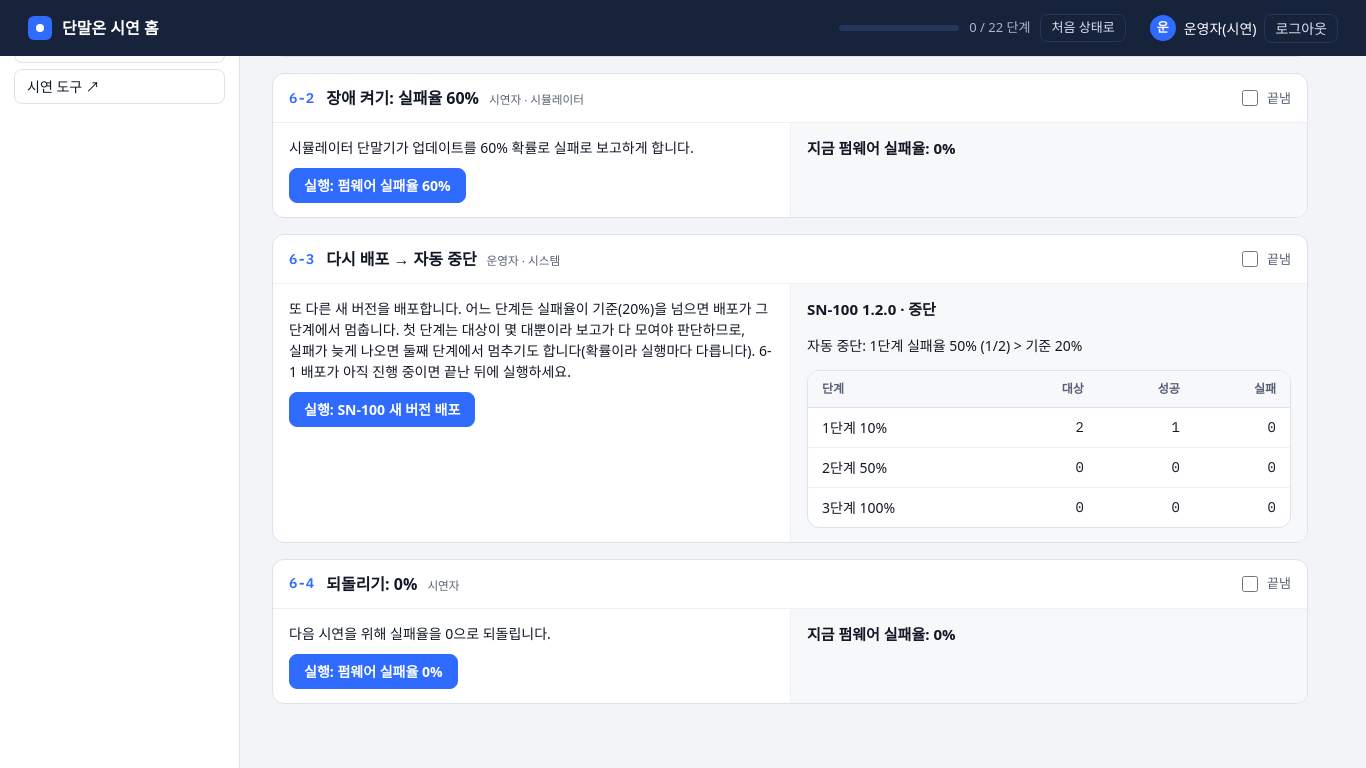
Test case: 막 6 펌웨어 배포와 자동 중단 › 배포 실행 → 진행 표, 같은 모델 배포가 아직 돌면 409를 안내
(page scrolled)
Check: the text "SN-100 1.2.0 · 중단" is shown, box 807,299 -> 936,319
Check: the text "자동 중단: 1단계 실패율 50% (1/2) > 기준 20%" is shown, box 807,336 -> 1082,355
Click the button "실행: SN-100 새 버전 배포": (382, 410) 289,392 -> 475,427
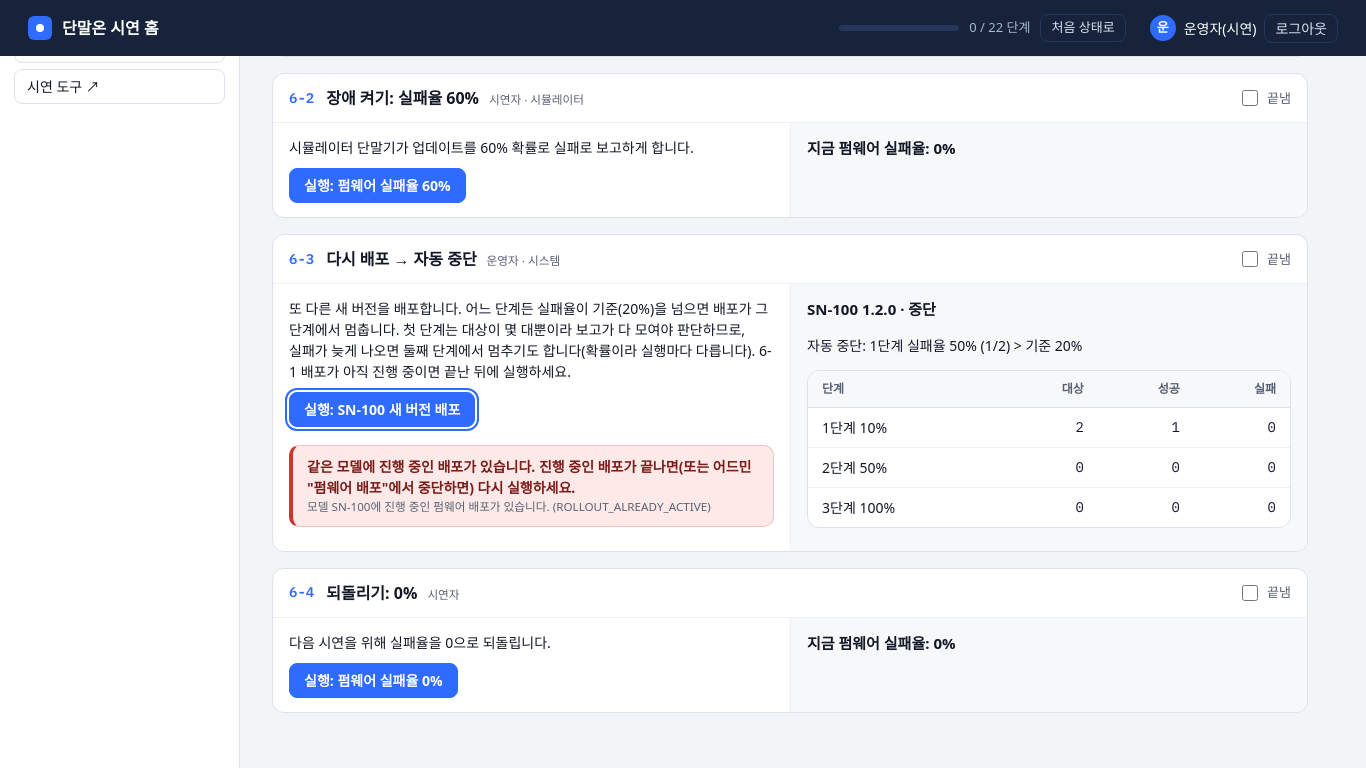
Check: the message shows "진행 중인 배포가 끝나면", box 307,457 -> 751,497
